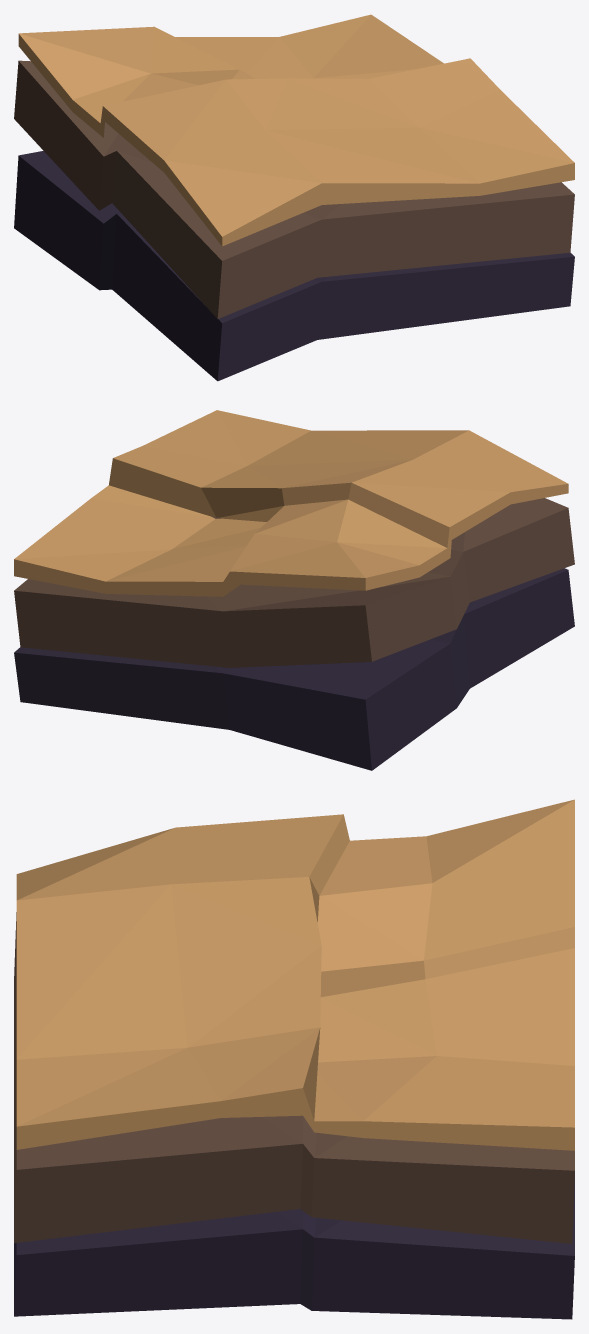
File: ground_03.glb
3 views of the same model, one above another, from view 1: azimuth 30°, elevation 25°; view 2: azimuth 150°, elevation 25°; view 3: azimuth 270°, elevation 25° (orthographic). The views are drawn at different scales.
Parts seen in each view (by area): view 1: Plane.008; view 2: Plane.008; view 3: Plane.008.
Part boxes in pixels (left/top/right/bottom): Plane.008: left=14, top=14, right=574, bottom=381; Plane.008: left=14, top=410, right=574, bottom=770; Plane.008: left=14, top=799, right=574, bottom=1319.
Bounding box in the file's own units: 30.47 × 17.06 × 30.14.
Materials: 1 (1 with a texture image).
